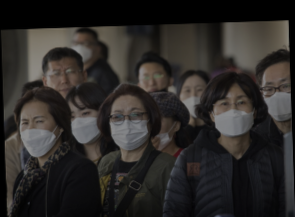with_mask: (212, 93, 257, 139), (108, 105, 149, 148), (20, 113, 59, 157), (261, 77, 291, 121), (69, 105, 101, 145), (180, 83, 208, 119)
without_mask: (44, 63, 82, 100), (136, 67, 170, 95)
